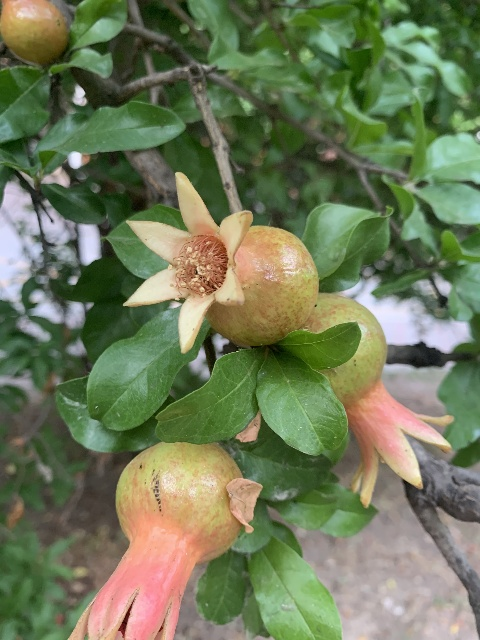early-fruit: (61, 441, 252, 640), (283, 294, 453, 508), (123, 172, 318, 353)
